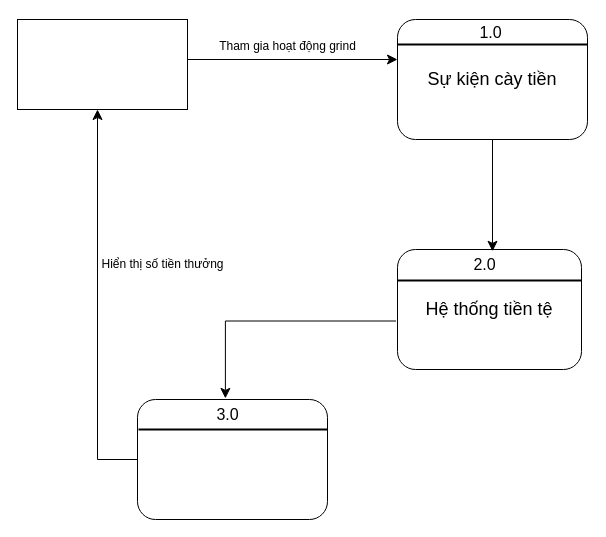
Some shapes in this 606 by 537 pixel diagram are drawn without their labels. Each missing label, with the box of its shape:
Hệ thống game: (136, 398, 328, 520)
Người chơi: (16, 18, 188, 110)
